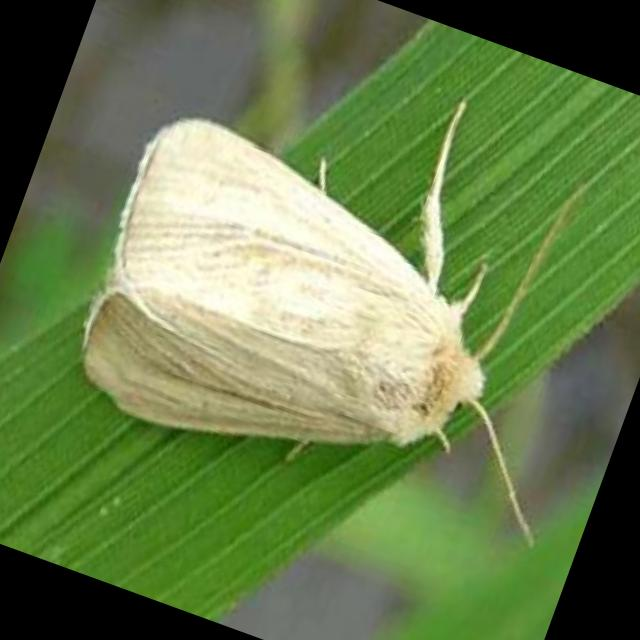stem-borer: (47, 49, 612, 558)
